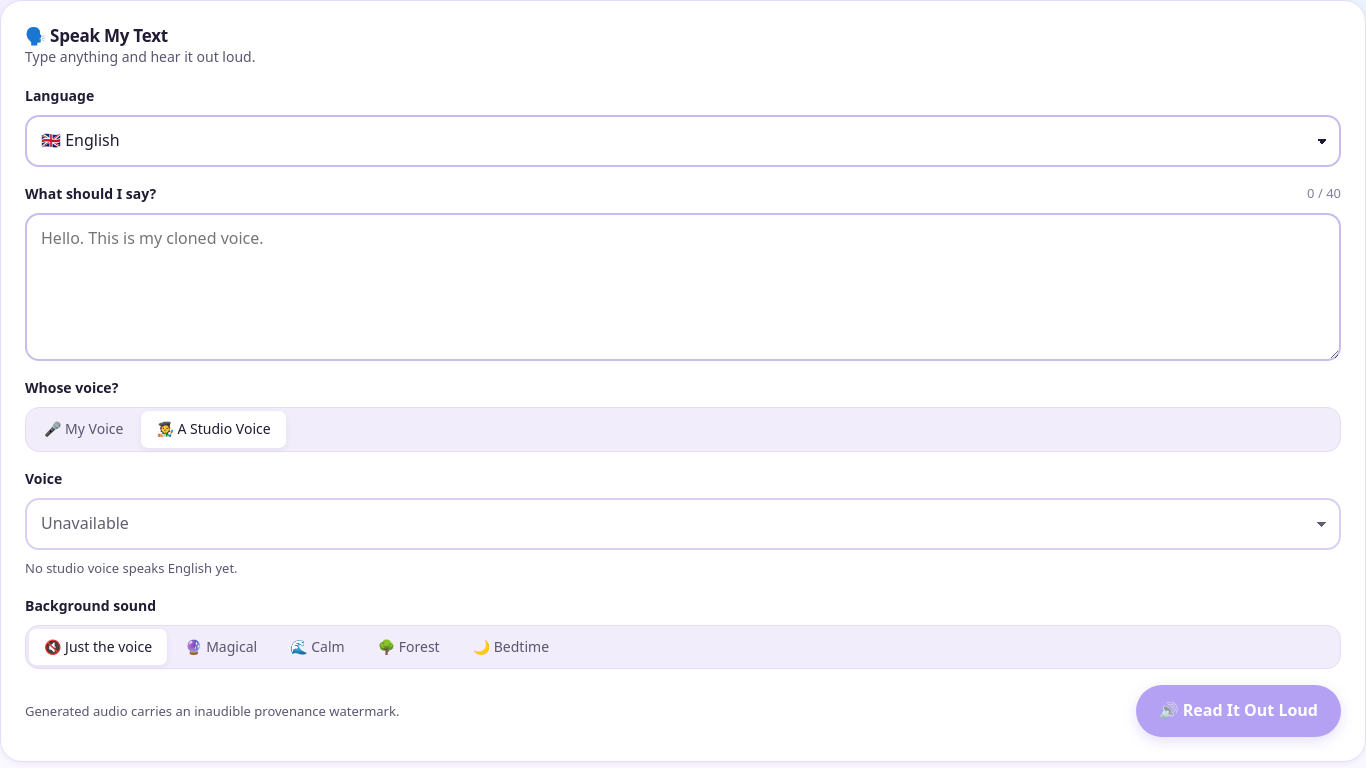
Test: GenerateForm › still offers a path to create a voice when the user switches back to cloned with none available
The width and height of the screenshot is (1366, 768).
Click the button with test id "voice-source-cloned" at (84, 430), box [29,411,138,448]
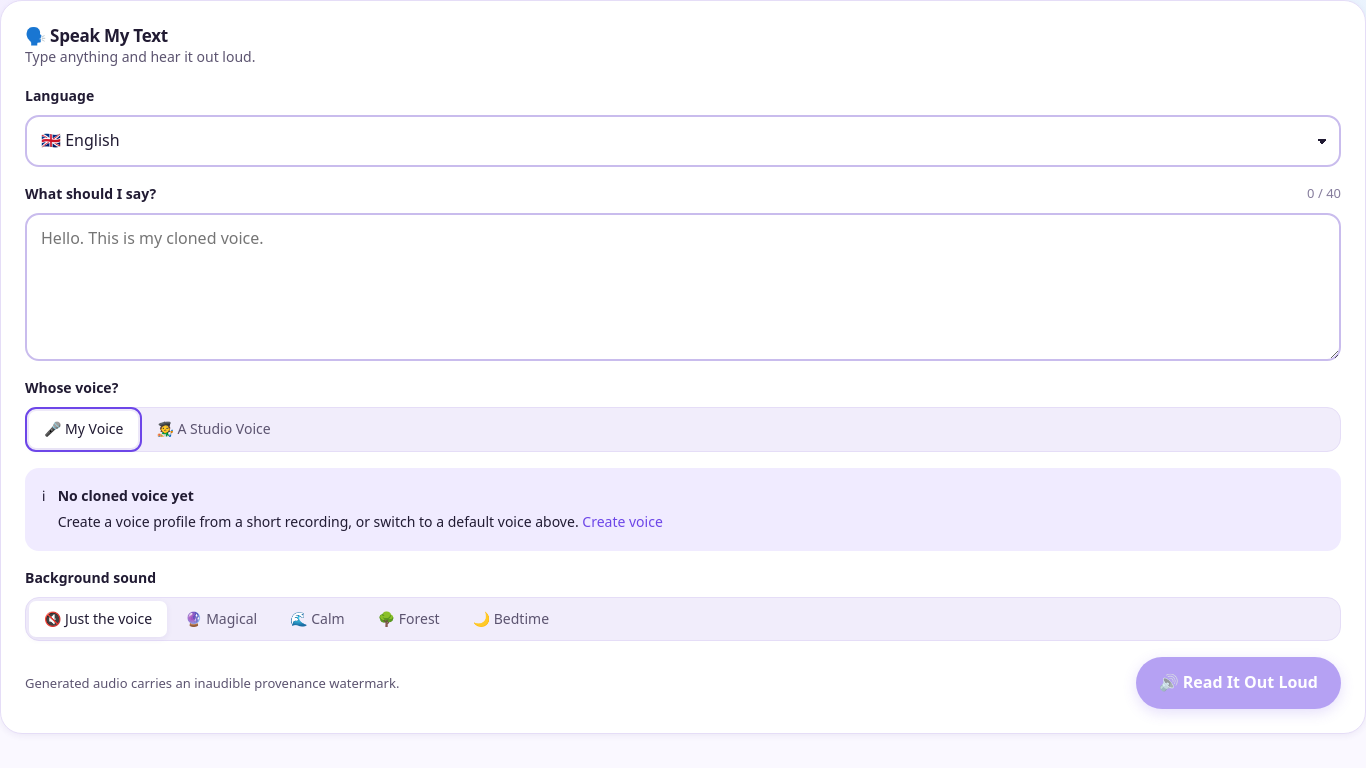
expect the button with test id "voice-source-default" is shown: met, box [141,411,286,448]
expect the text "No cloned voice yet" is shown: met, box [58,486,194,505]
